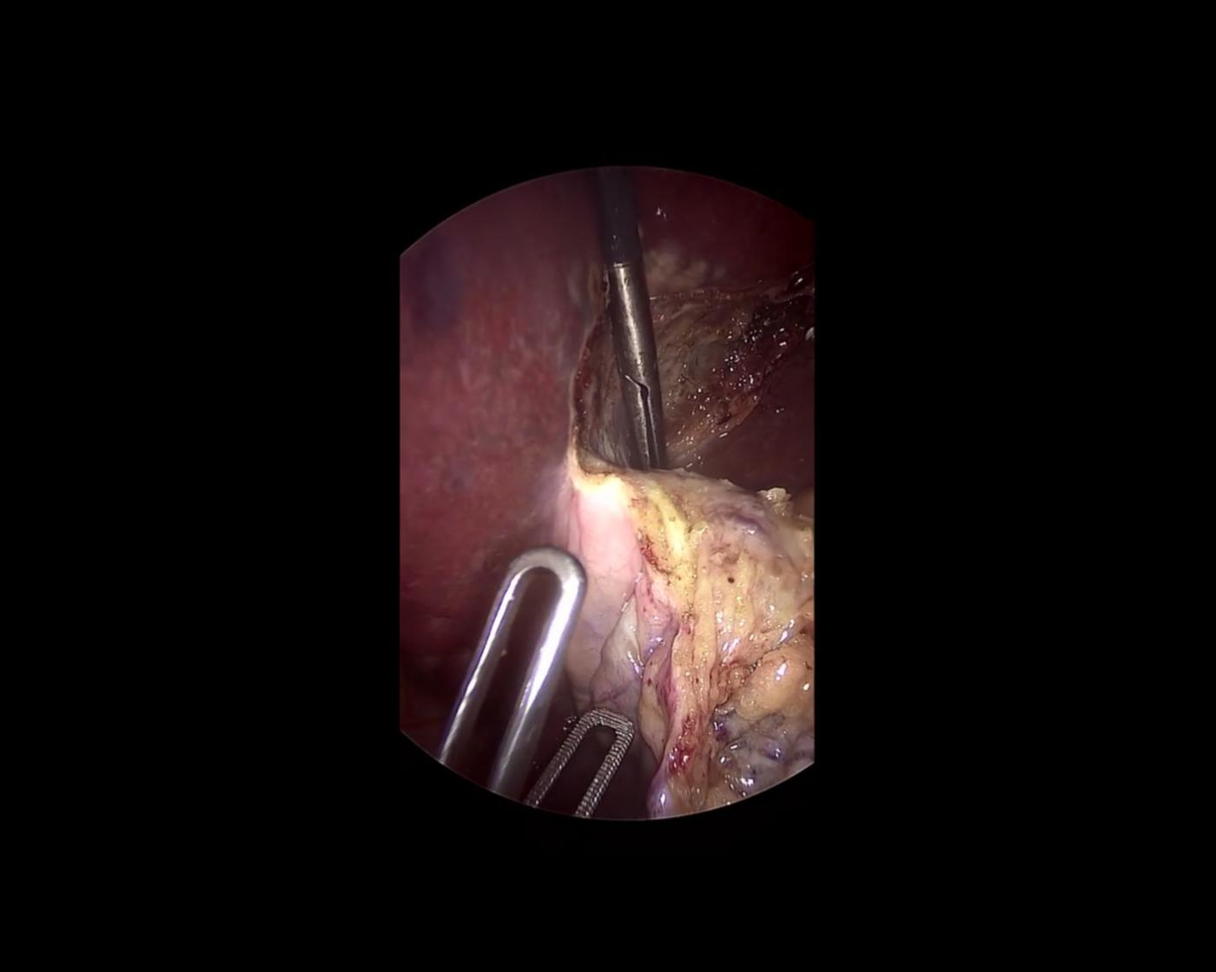Forceps: (431, 532, 594, 800), (591, 163, 669, 475), (521, 691, 642, 834)
Gallbladder: (556, 449, 815, 818)
Liver: (176, 39, 824, 754)
